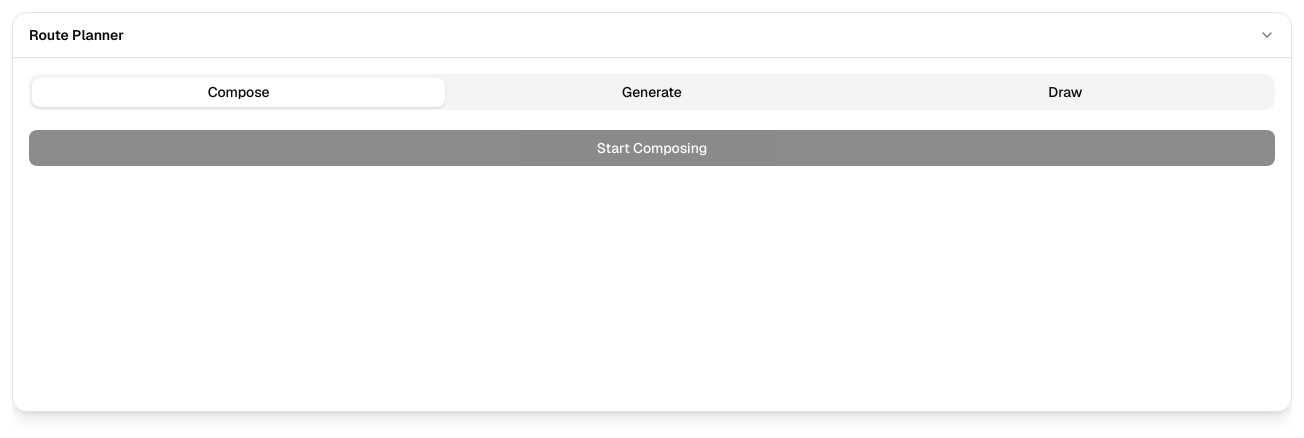
Test case: RoutePlanner › shows add region message when not favorite
The image size is (1304, 438).
Click the tab "Generate" at (652, 92), box [445, 78, 859, 106]
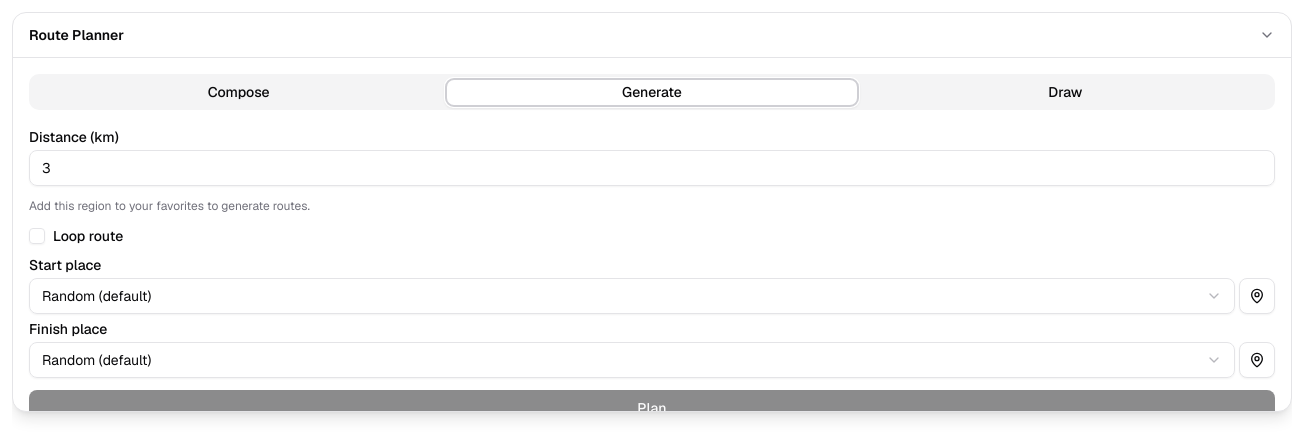
Now the text "Add this region to your favorites to generate routes." is shown, box [29, 198, 310, 214]
